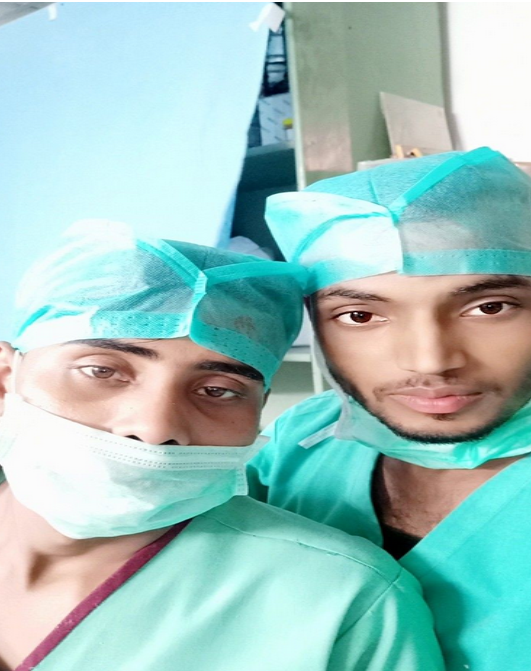mask_weared_incorrect: (1, 216, 306, 543), (272, 151, 530, 449)
